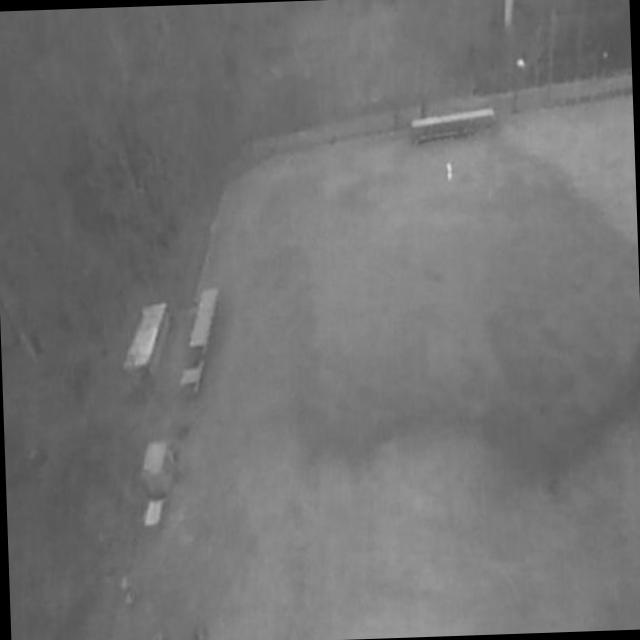person: (445, 162, 454, 183)
